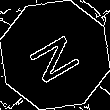N_NE: (23, 25, 87, 85)
